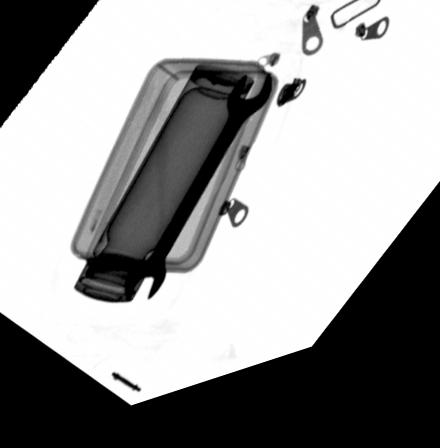Wrench: (119, 86, 271, 310)
